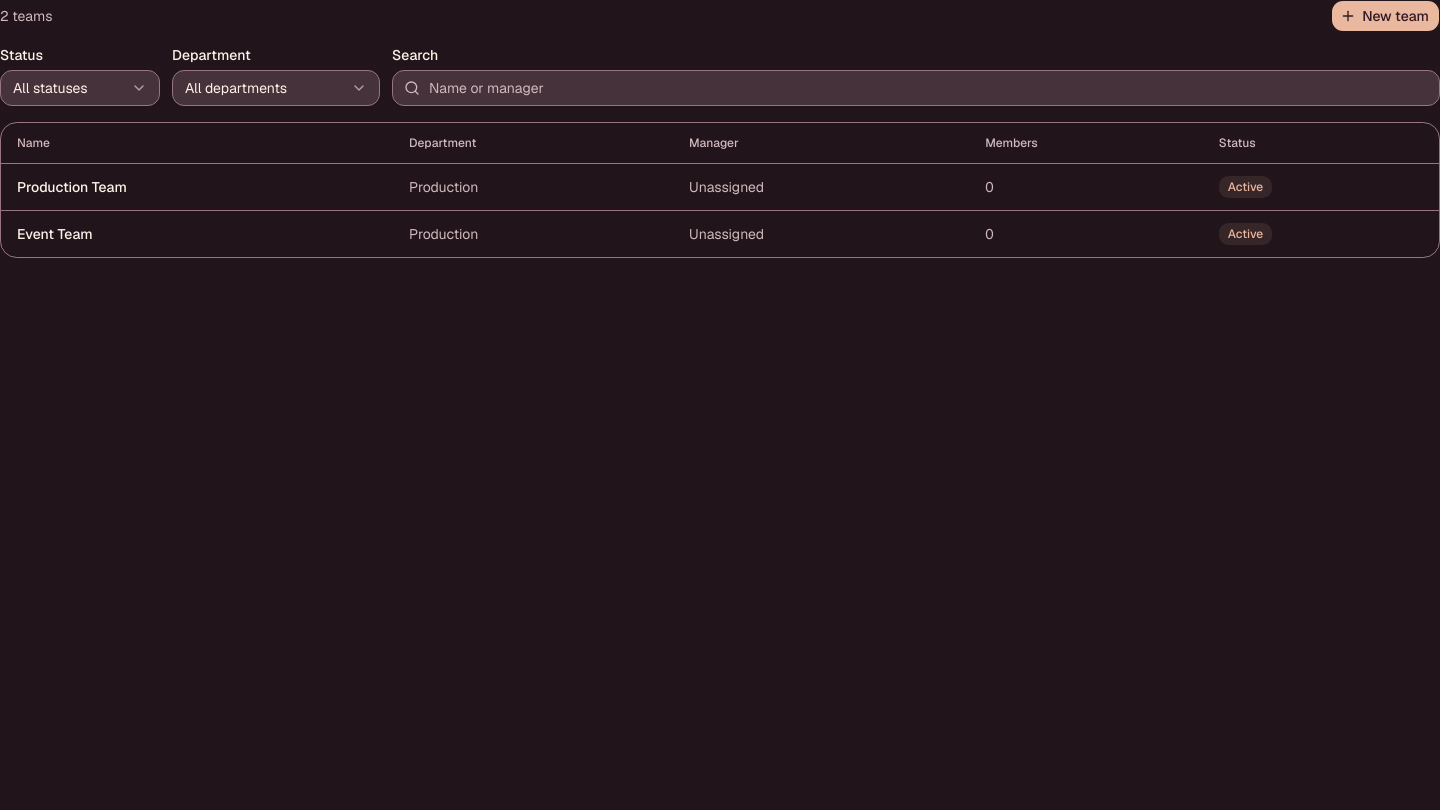
Scenario: TeamsManager API integration › creates a team and refetches the list
Expected: the text "2 teams" is shown, [0,6,52,26]
Click the button "New team" at coordinates (1386, 16), box [1331,0,1439,32]
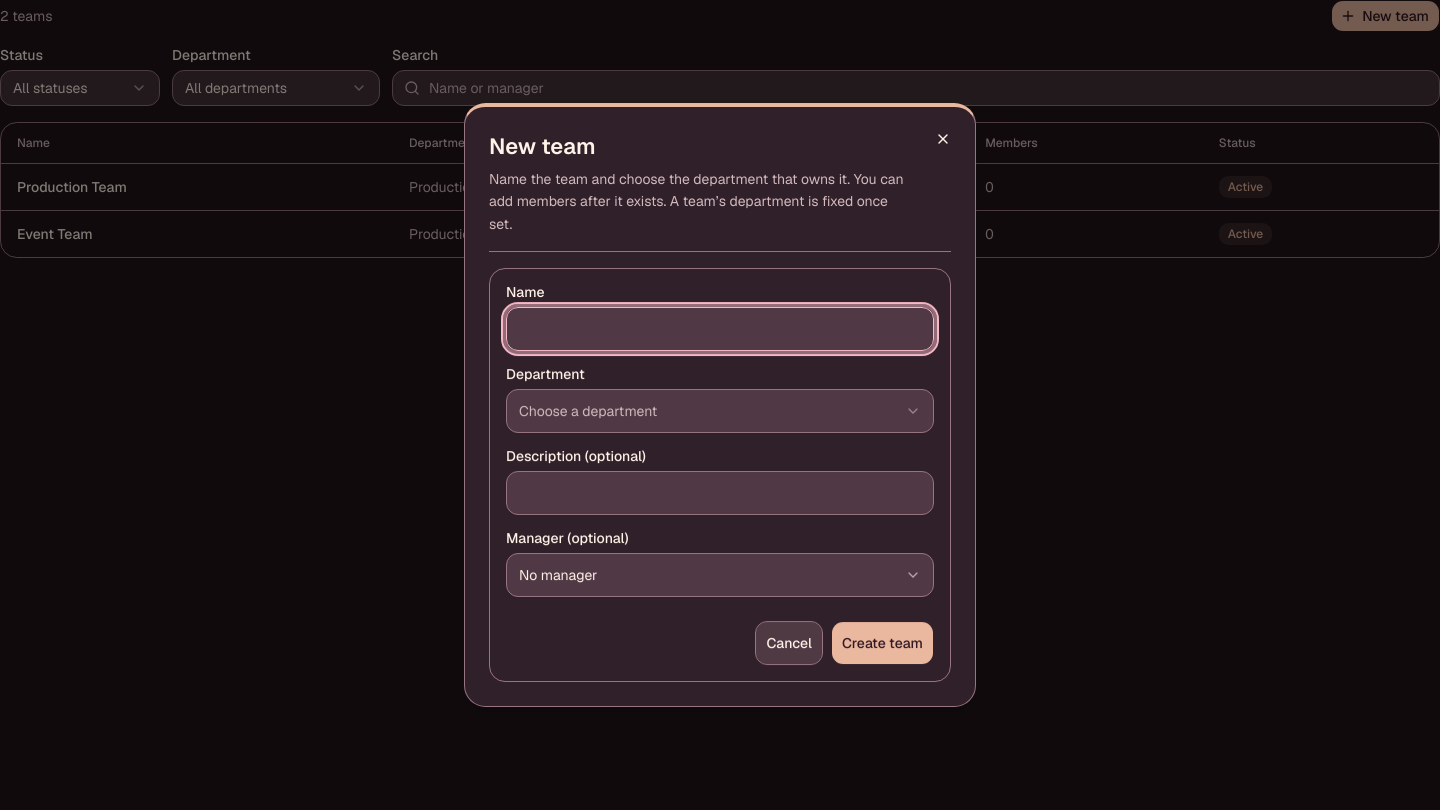
Type "New Team" into the field labelled "Name" at coordinates (720, 329), box [506,307,934,351]
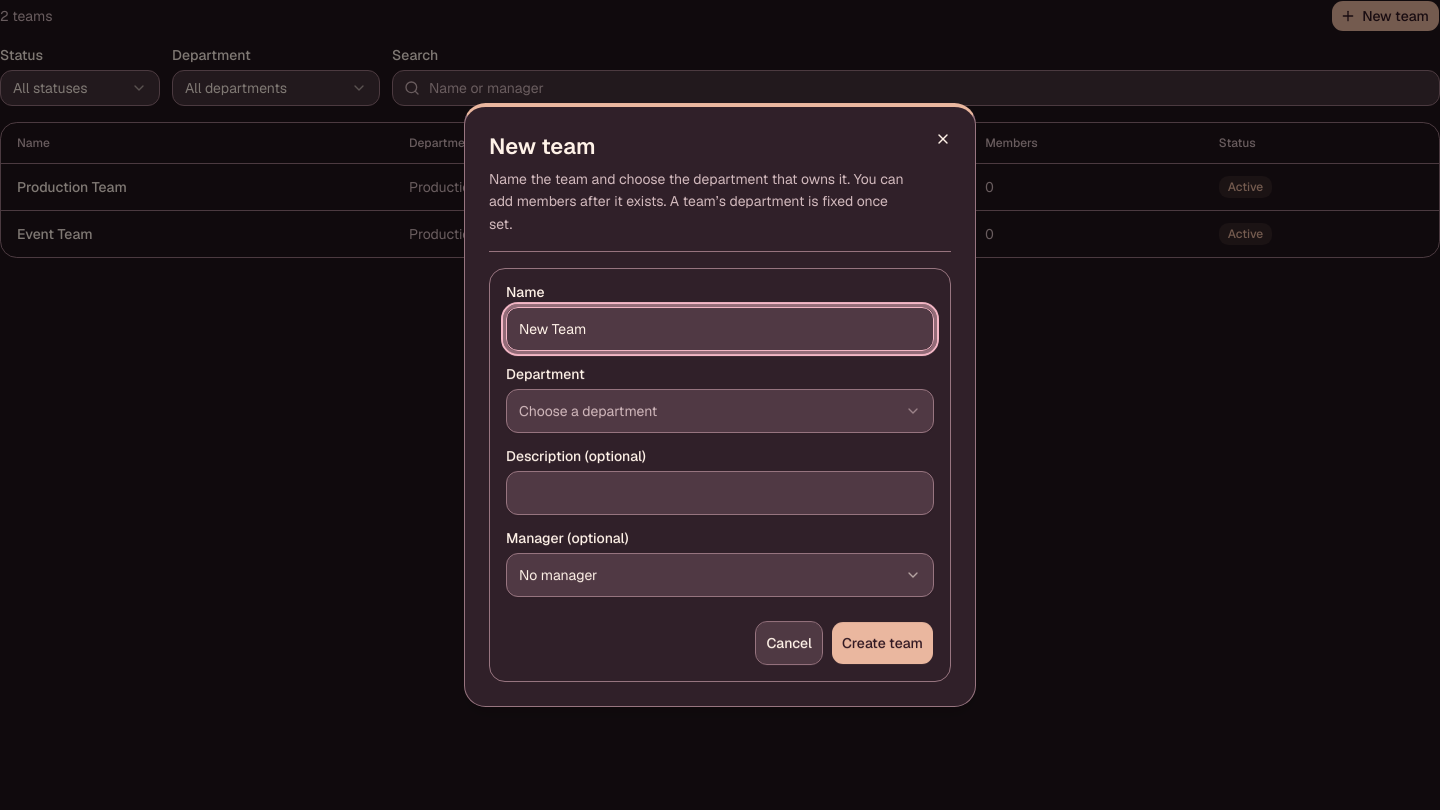
Click the dropdown labelled "department" at coordinates (588, 411), box [506,389,934,433]
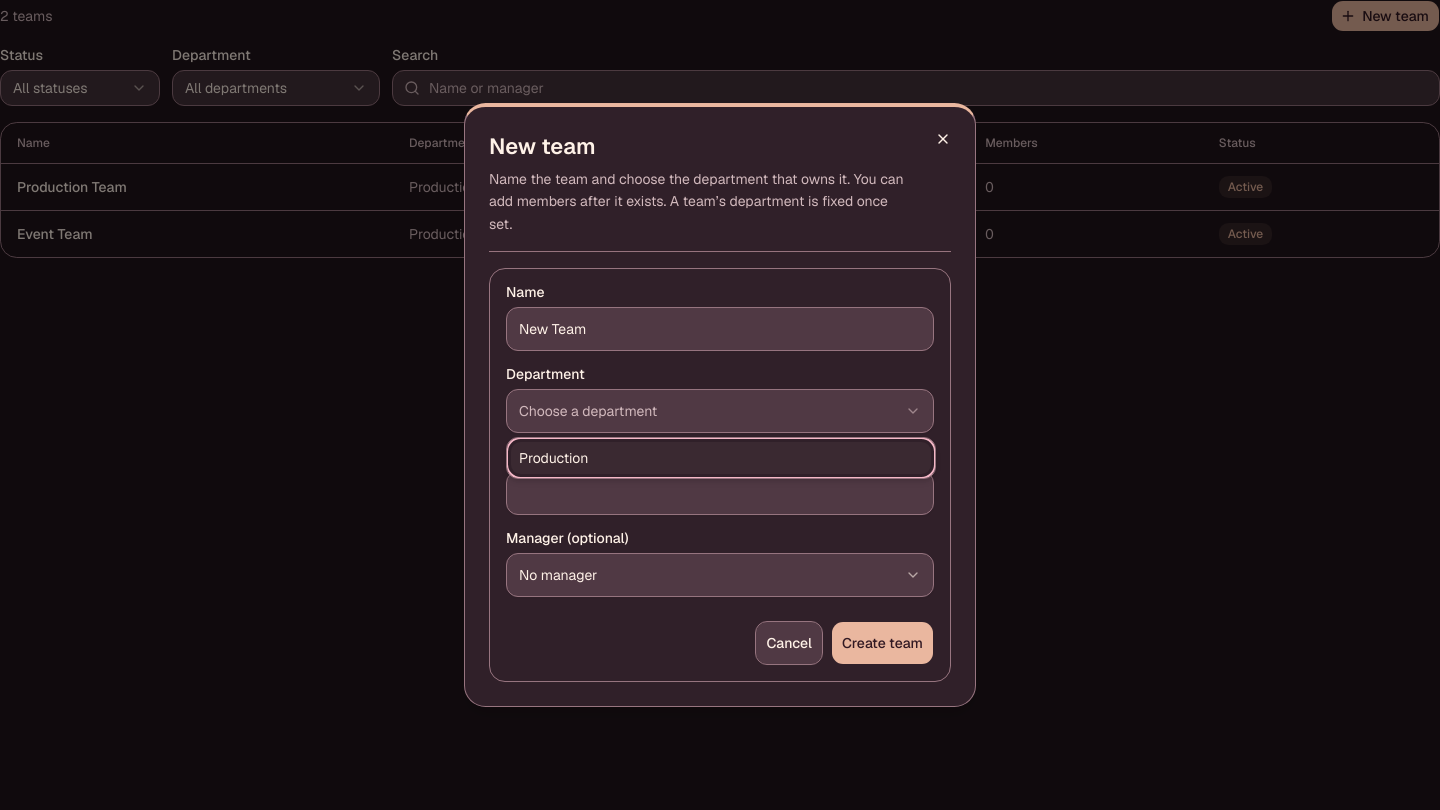
Click the option "Production" at coordinates (554, 458), box [511,442,931,474]
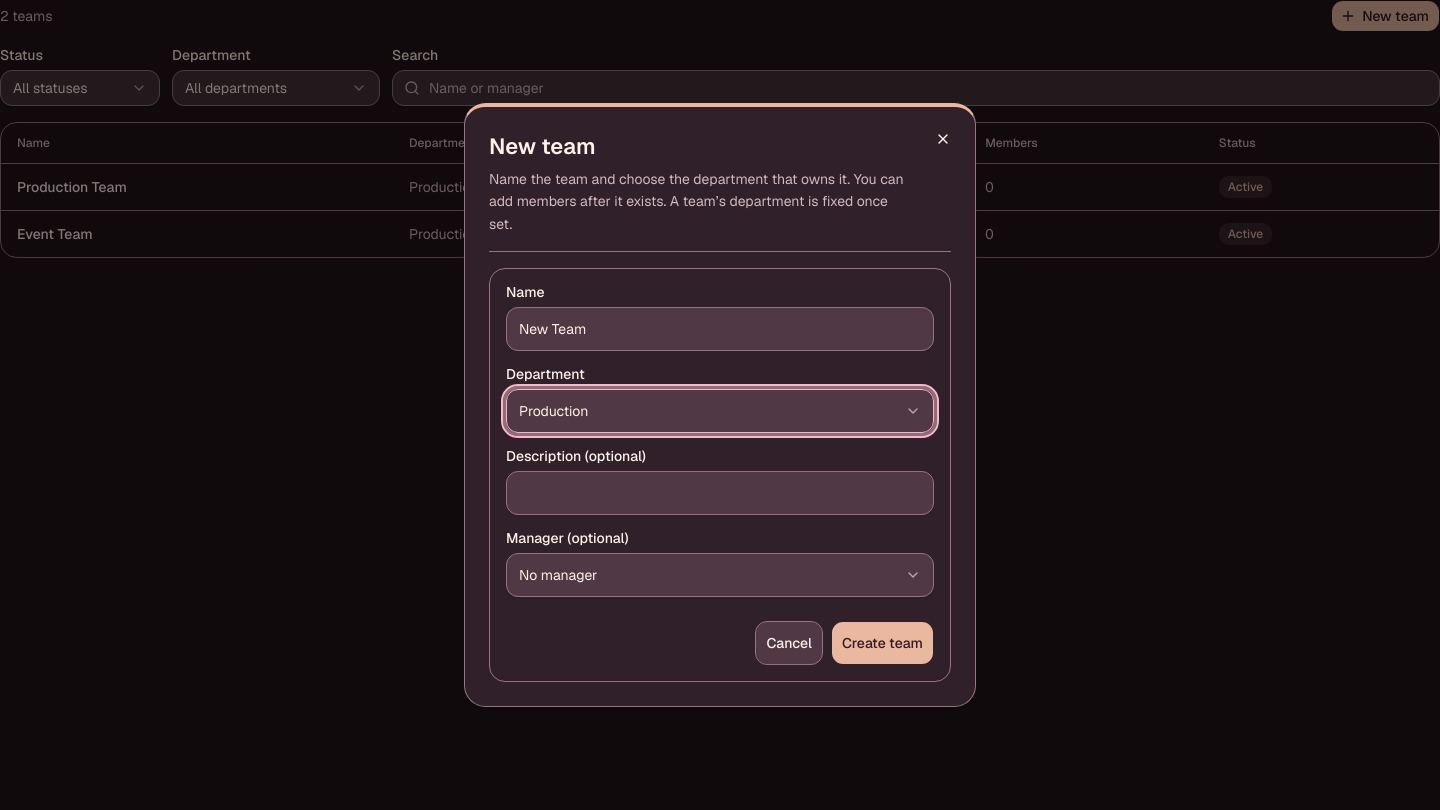
Click the button "Create team" at coordinates (882, 643), box [831,621,934,665]
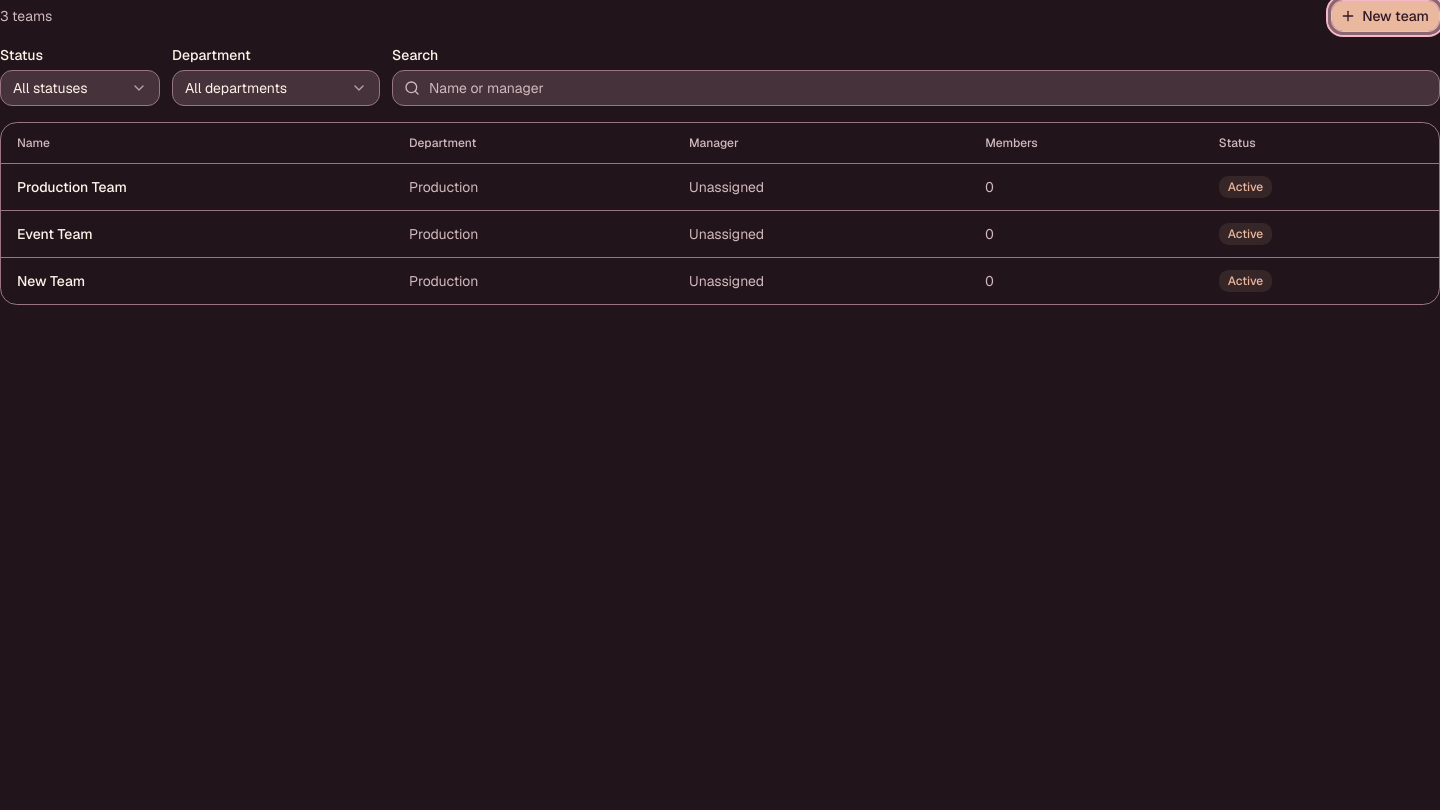
Expected: the text "3 teams" is shown, [0,6,52,26]
